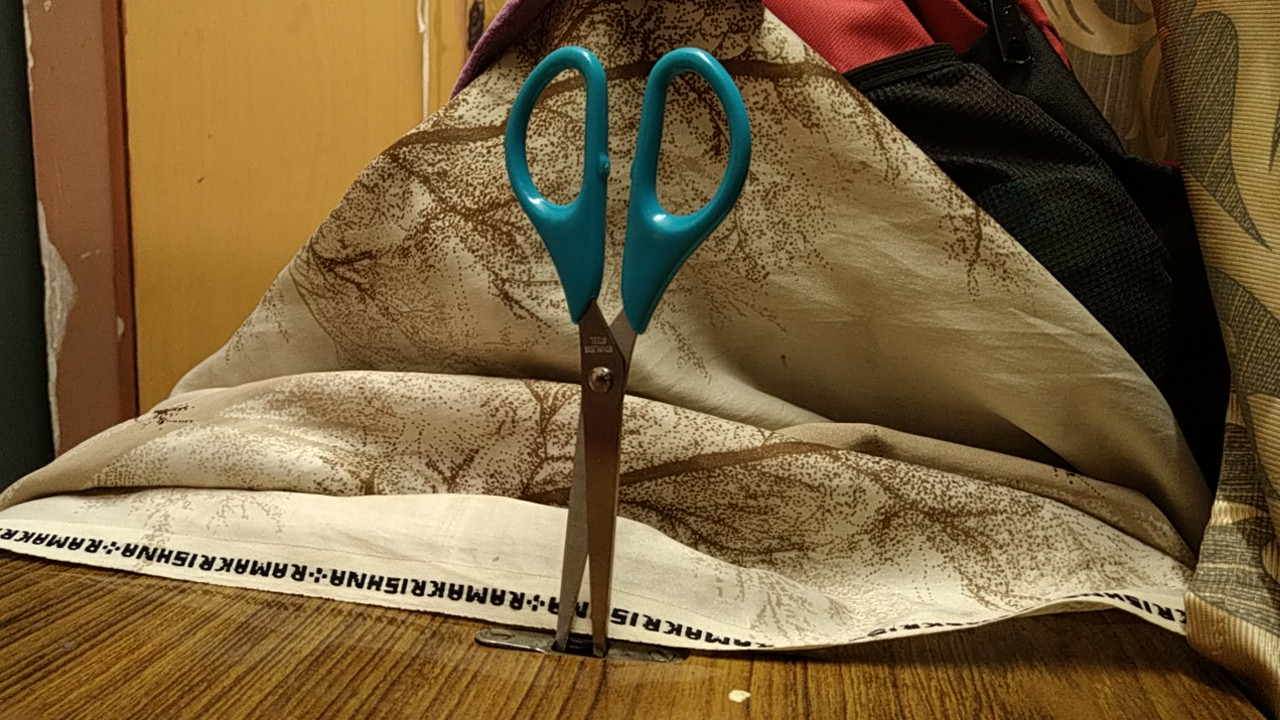scissor: (493, 39, 758, 668)
